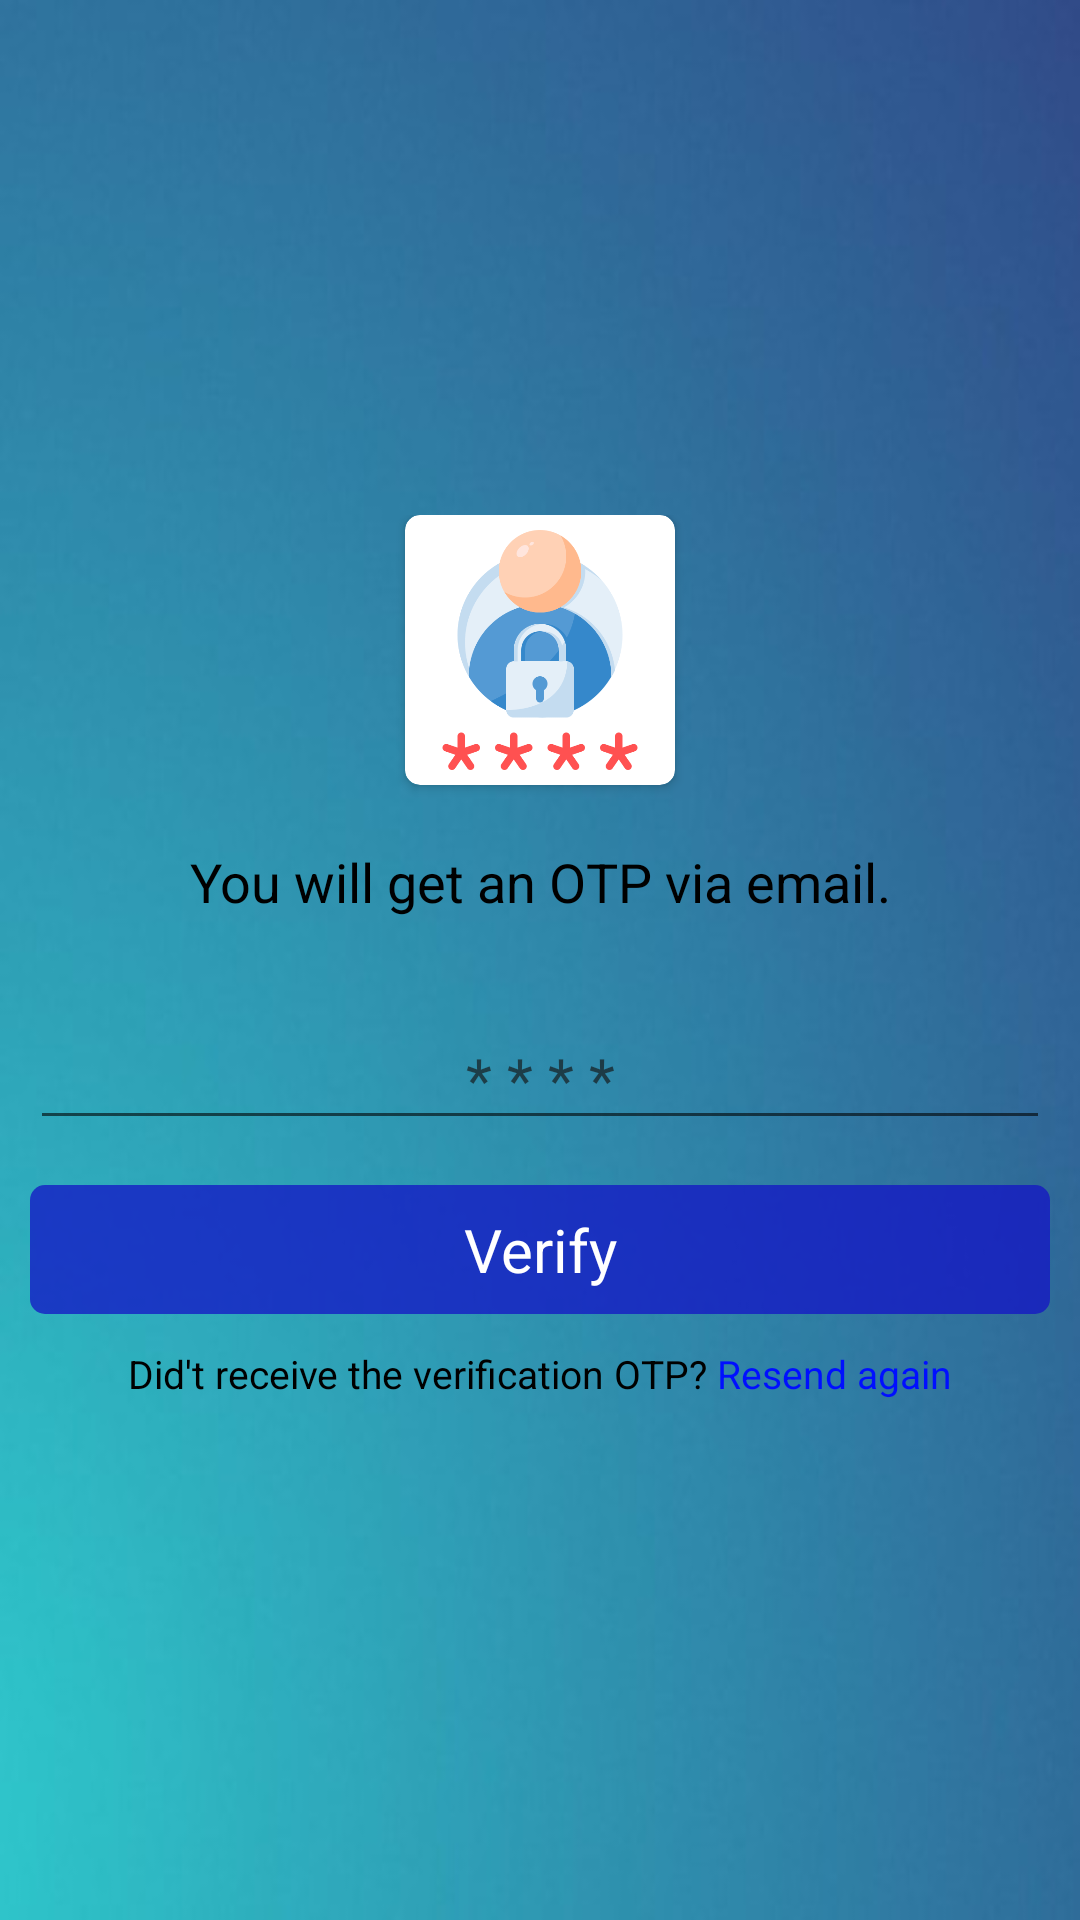

Named icons in this screenshot (1080*1920) and their centers, (x=x, y=y):
login: (x=540, y=650)
